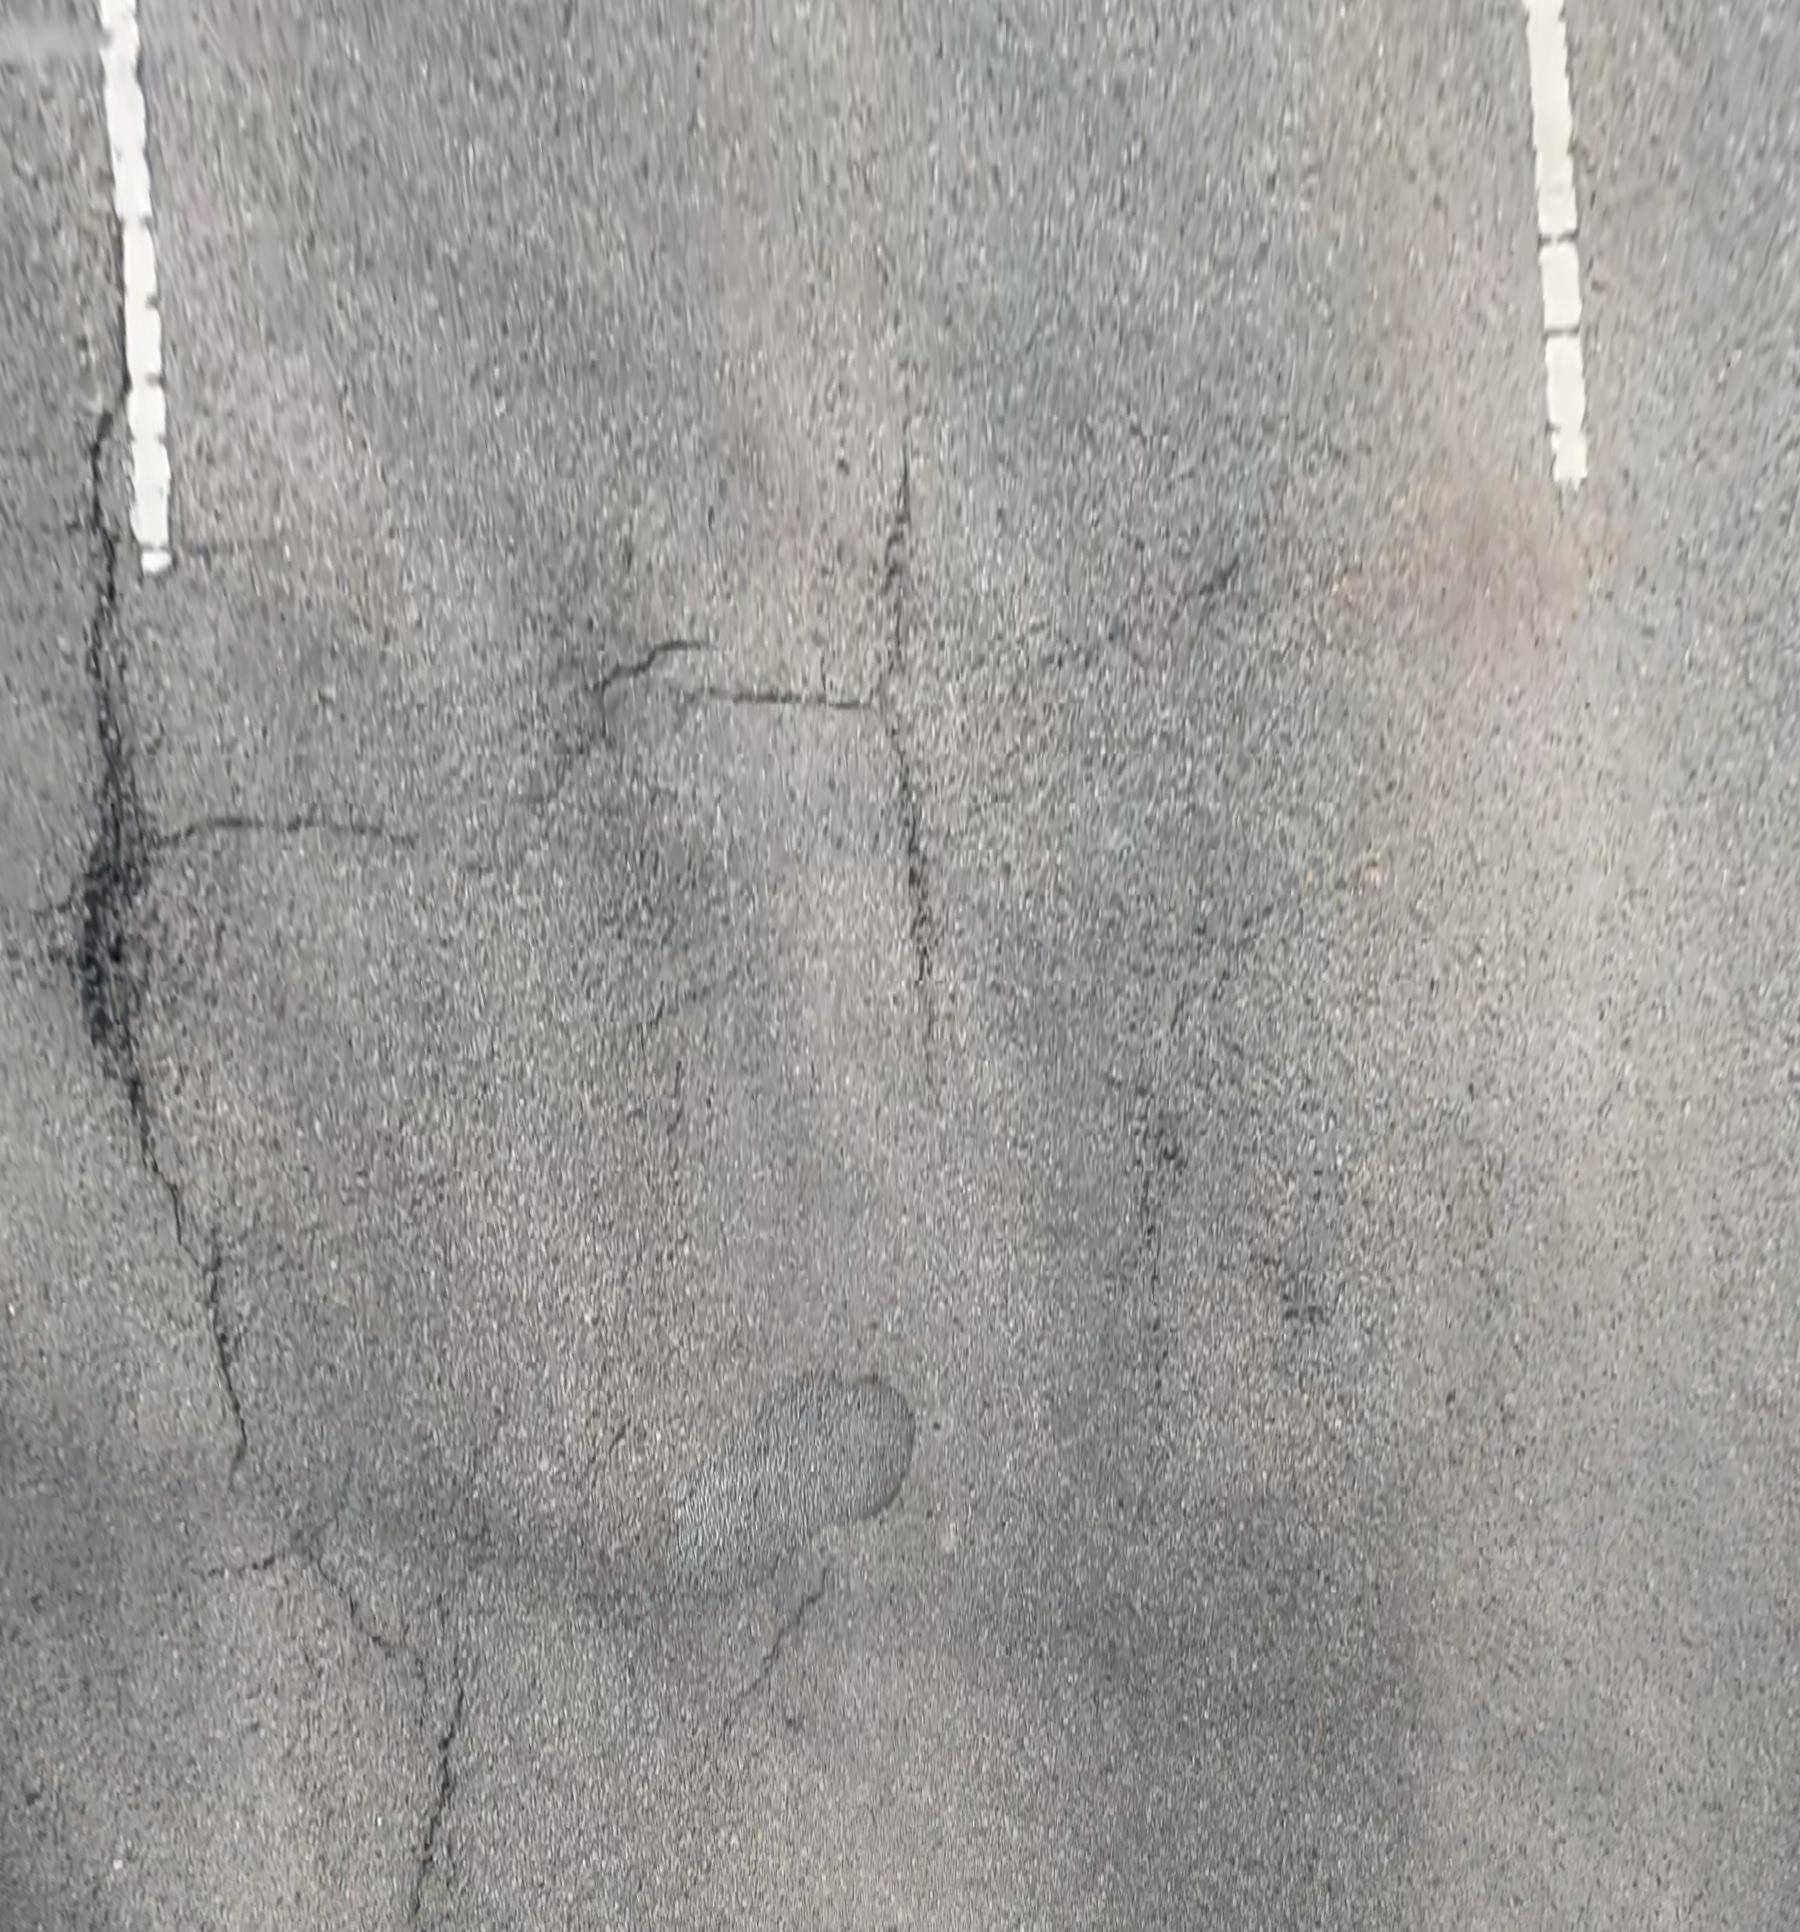pothole: (74, 575, 161, 1167)
